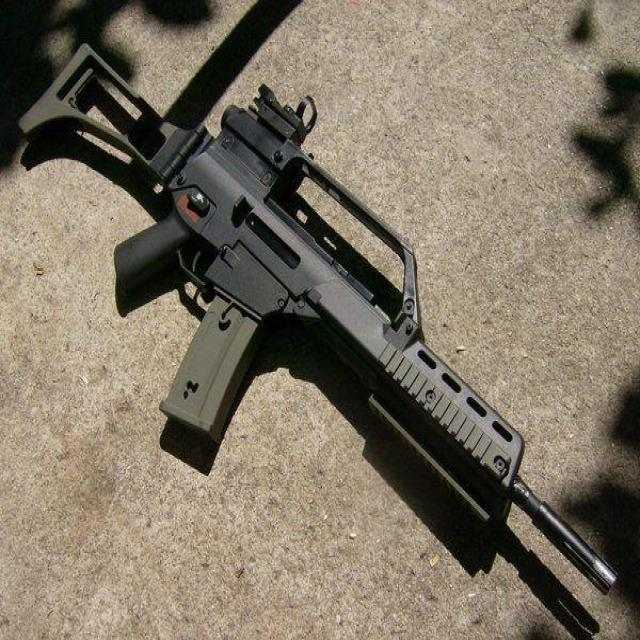rifle: (17, 41, 618, 609)
